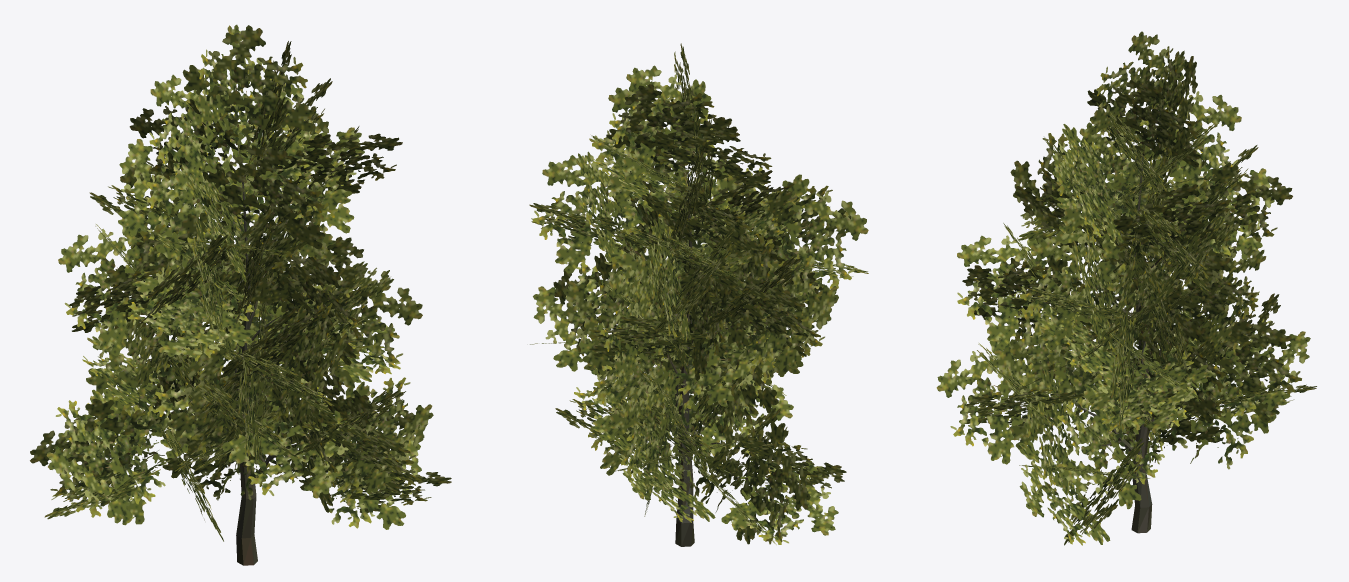
The model's file is laubbaum_03.glb.
3 views of the same model, side by side, from view 1: azimuth 30°, elevation 25°; view 2: azimuth 150°, elevation 25°; view 3: azimuth 270°, elevation 25° (orthographic). The views are drawn at different scales.
Visible parts, largest first — view 1: laub, rinde; view 2: laub, rinde; view 3: laub, rinde.
Part boxes in pixels (<box>): laub: <box>30,24,451,541</box>; rinde: <box>204,153,293,565</box>; laub: <box>529,43,868,544</box>; rinde: <box>629,168,732,546</box>; laub: <box>936,31,1316,545</box>; rinde: <box>1074,147,1167,533</box>.
Size of the model in its own units: 6.44 by 9 by 6.71.
2 materials, 1 textured.
